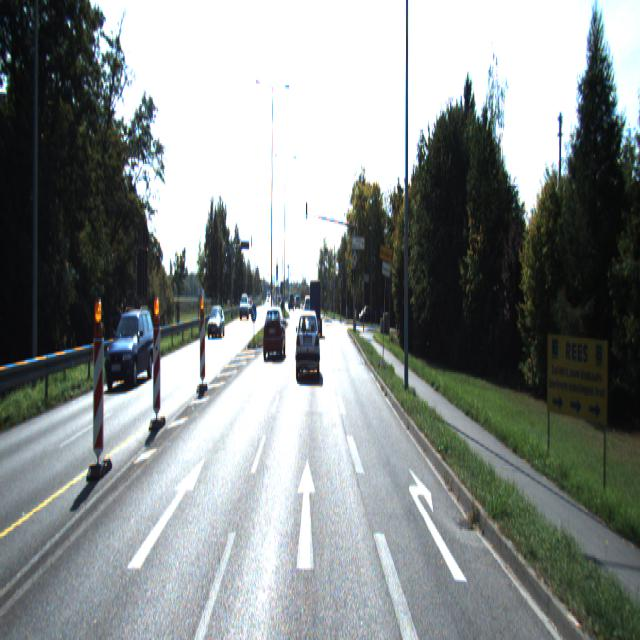Car: (105, 307, 157, 393), (296, 316, 320, 382), (263, 311, 287, 365), (309, 283, 322, 338), (207, 307, 225, 340)
